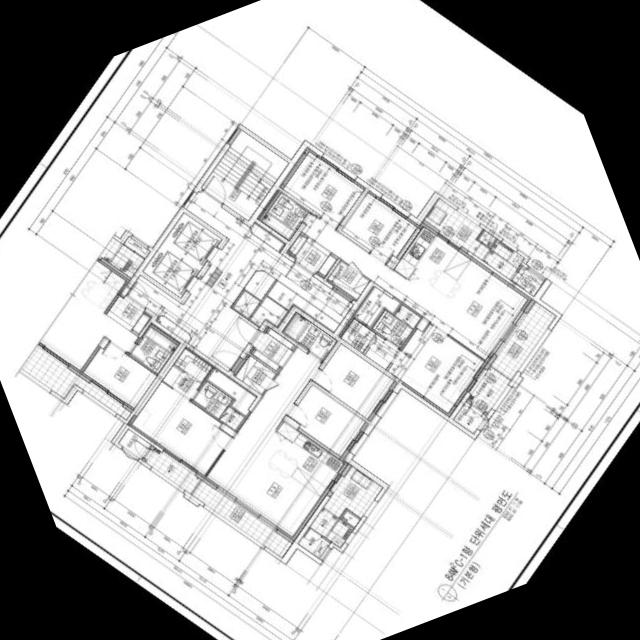background: (0, 0, 640, 640)
space_balconi: (146, 447, 292, 557), (468, 302, 556, 412), (424, 198, 525, 279), (311, 466, 383, 547)
space_bedroom: (128, 381, 232, 477), (388, 323, 487, 416), (280, 147, 366, 227), (315, 343, 397, 421), (290, 384, 368, 458), (342, 190, 419, 262)
space_dressroom: (339, 316, 402, 369), (163, 346, 214, 399)
space_elevator: (164, 212, 222, 268), (143, 242, 201, 298)
space_elevator_hall: (127, 190, 354, 371)
space_front: (287, 232, 338, 278), (250, 326, 296, 371)
space_kitchen: (259, 421, 348, 498), (394, 222, 474, 302)
space_living_room: (302, 214, 532, 361), (206, 346, 324, 540)
space_other: (268, 280, 340, 332), (208, 367, 257, 415), (354, 286, 401, 327), (327, 260, 370, 301), (234, 354, 276, 394), (251, 296, 289, 327), (251, 222, 286, 252), (454, 401, 486, 433), (119, 429, 152, 459), (244, 271, 276, 300), (156, 316, 191, 342), (234, 290, 260, 318), (342, 510, 360, 527), (479, 230, 496, 246)
space_outdoor_room: (512, 265, 544, 296), (299, 528, 331, 558)
space_staircase: (202, 130, 289, 220)
space_toilet: (283, 311, 338, 360), (193, 380, 245, 430), (261, 192, 310, 240), (372, 304, 422, 348)
